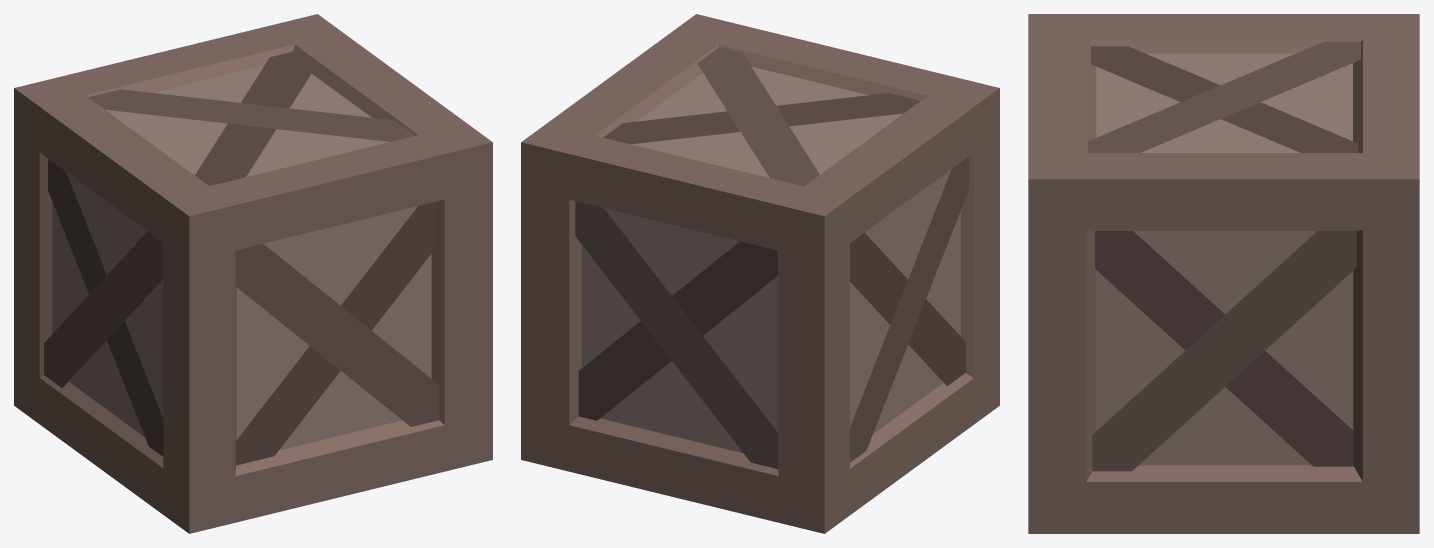
File: box_small_dark.glb
3 renders of one model, left to right at view 1: azimuth 30°, elevation 25°; view 2: azimuth 150°, elevation 25°; view 3: azimuth 270°, elevation 25°, orthographic. The views are drawn at different scales.
Visible parts, largest first — view 1: box_007; view 2: box_007; view 3: box_007.
Part boxes in pixels (x1,y1,x2,y2): box_007: (14,14,492,533); box_007: (521,14,999,533); box_007: (1028,14,1419,533).
Size of the model in its own units: 0.6227 by 0.6227 by 0.6227.
Materials: 1 (1 with a texture image).
